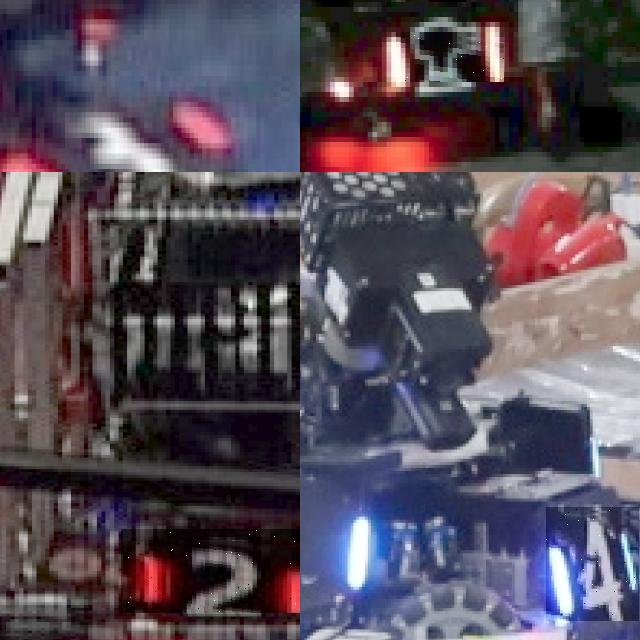B3: (300, 471, 370, 608)
B4: (546, 507, 639, 621)
R2: (120, 528, 300, 613)
Rs: (396, 32, 504, 82)
